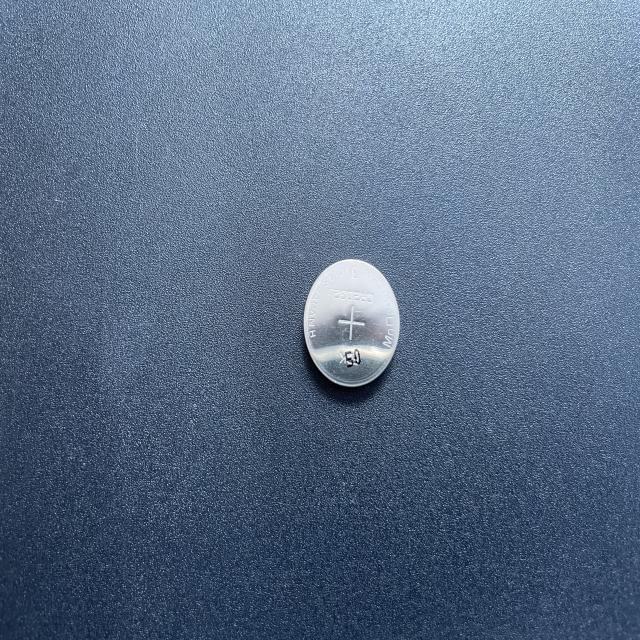COIN: (300, 256, 401, 394)
